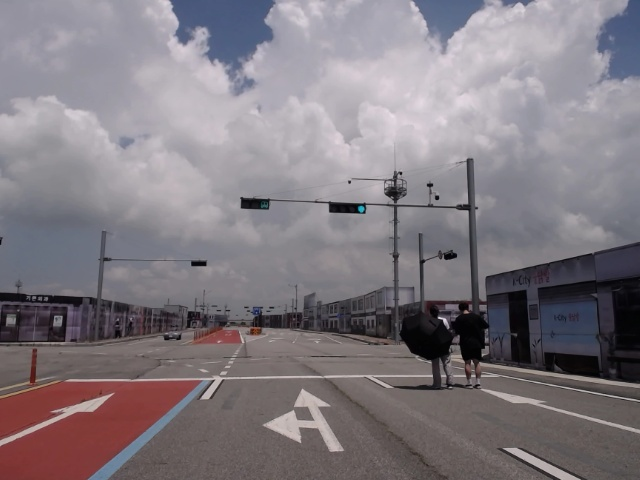straight_green_4: (329, 203, 367, 214)
